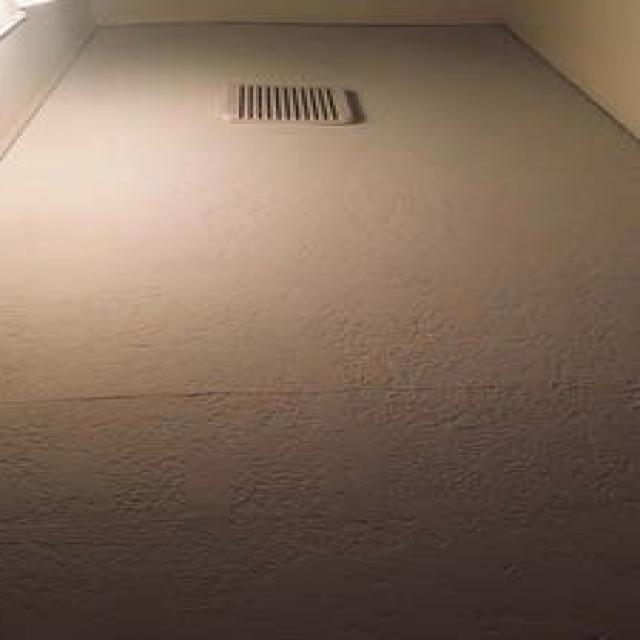leak: (6, 379, 640, 402), (12, 506, 425, 524)
